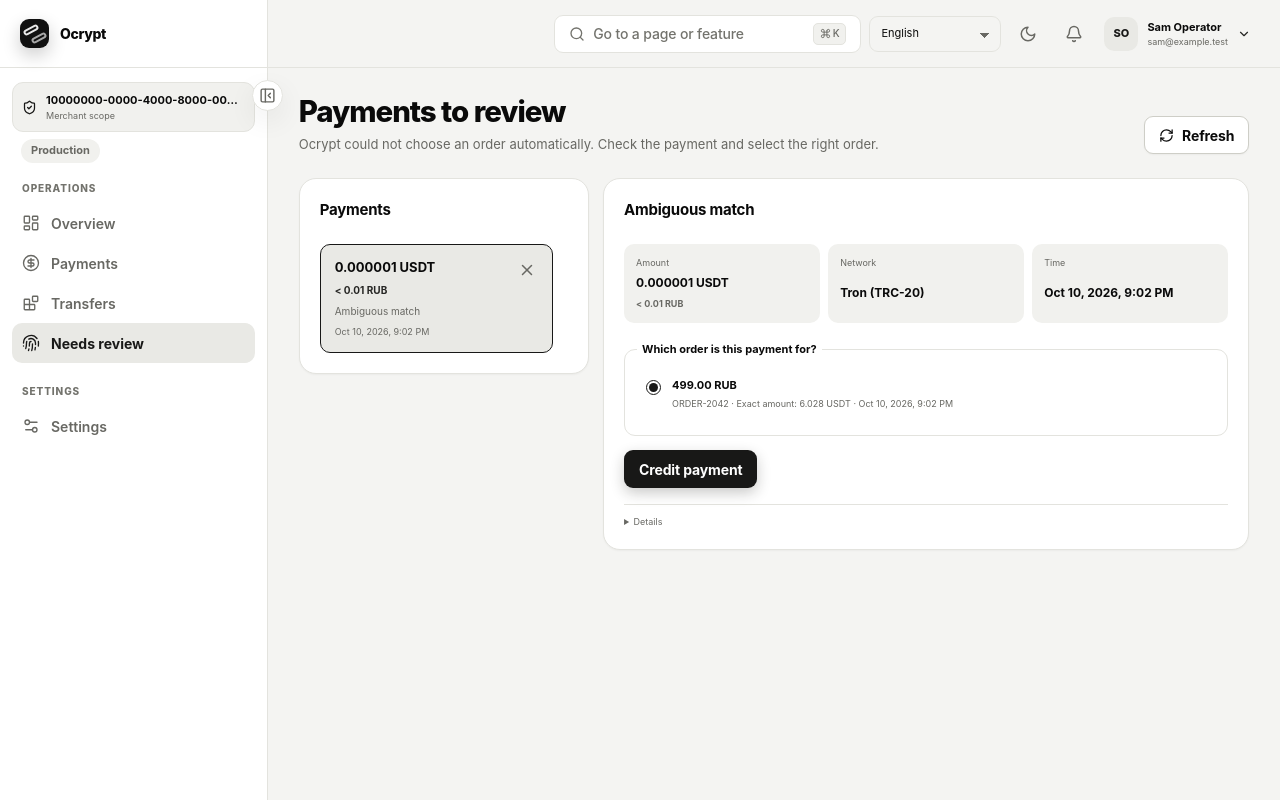
Test case: admin application › hides an unmatched payment without assigning it to an order
Expected: the 1st text "< 0.01 RUB" is shown, [335, 284, 387, 296]
What coordinates should you click on to do the following:
click the button named "Hide from list"
I would click on:
 (527, 270)
Its box is [511, 254, 543, 286].
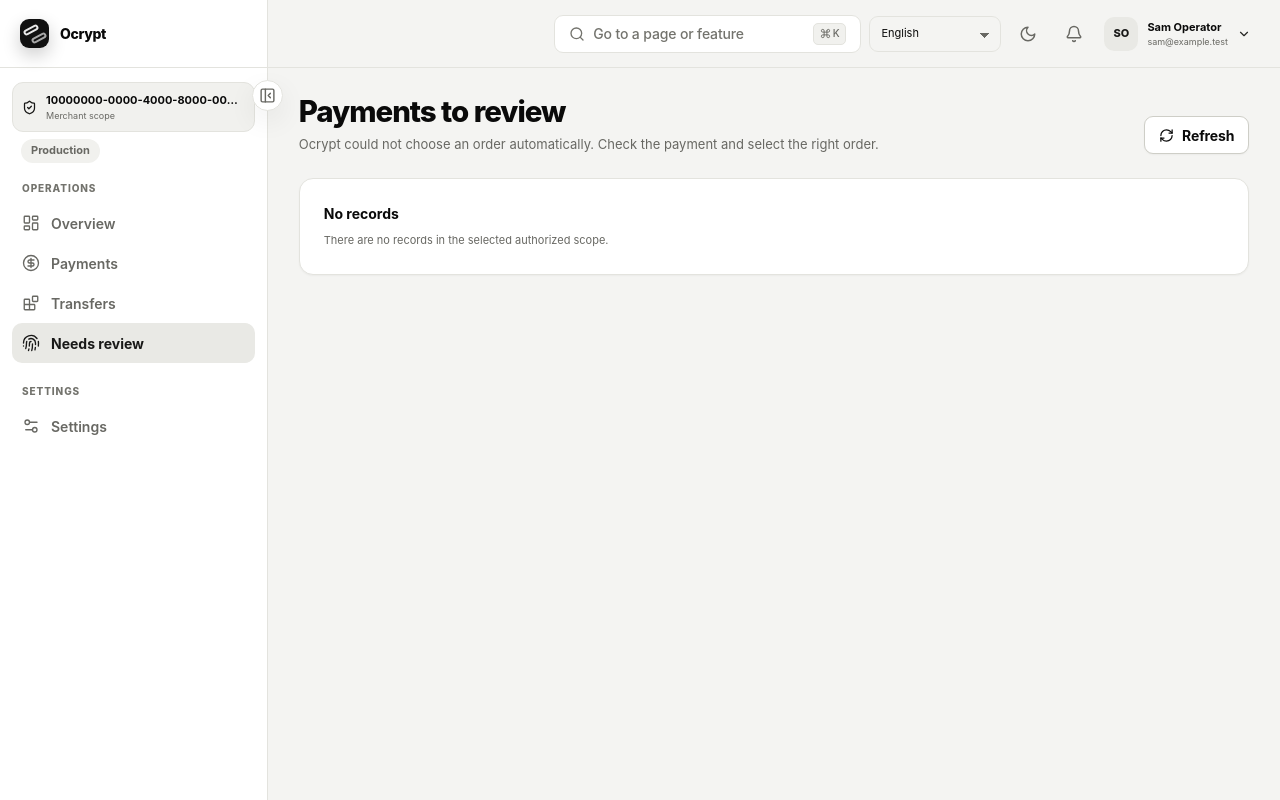
Expected: the button "< 0.01 RUB" is gone
